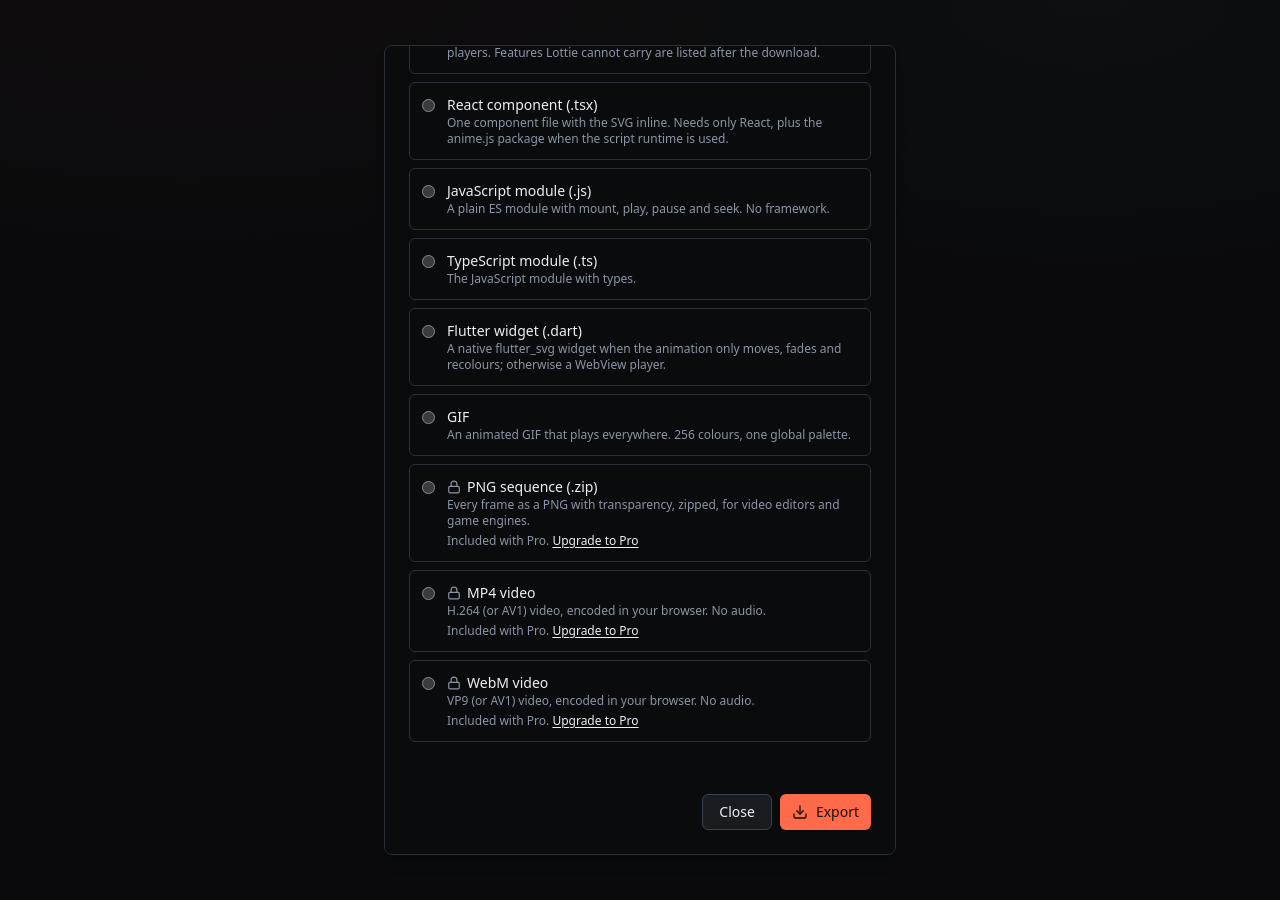
Scenario: MM49 refusals route by ladder › premium 429 → {"error":"vector_export_limit","tier":"premium","limit":30,"used":30,"resetsAt":"x","upgradePath":"pro"}
The image size is (1280, 900).
(page scrolled)
Step 1. Click the button "Export" → (825, 812), box [780,794,871,830]
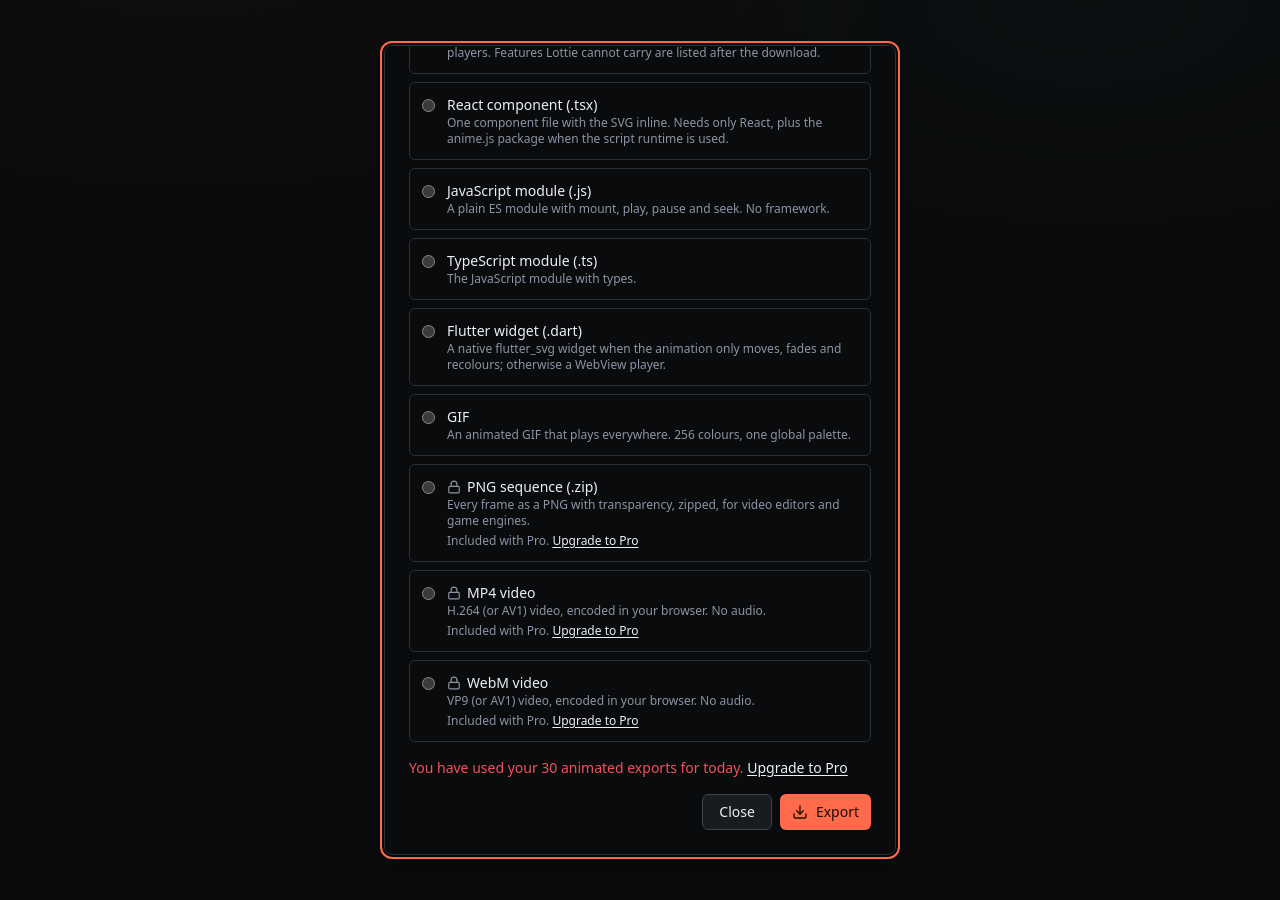
Expected: the 4th link with test id "vector-upgrade-cta" reads "Upgrade to Pro", [747,758,848,777]
